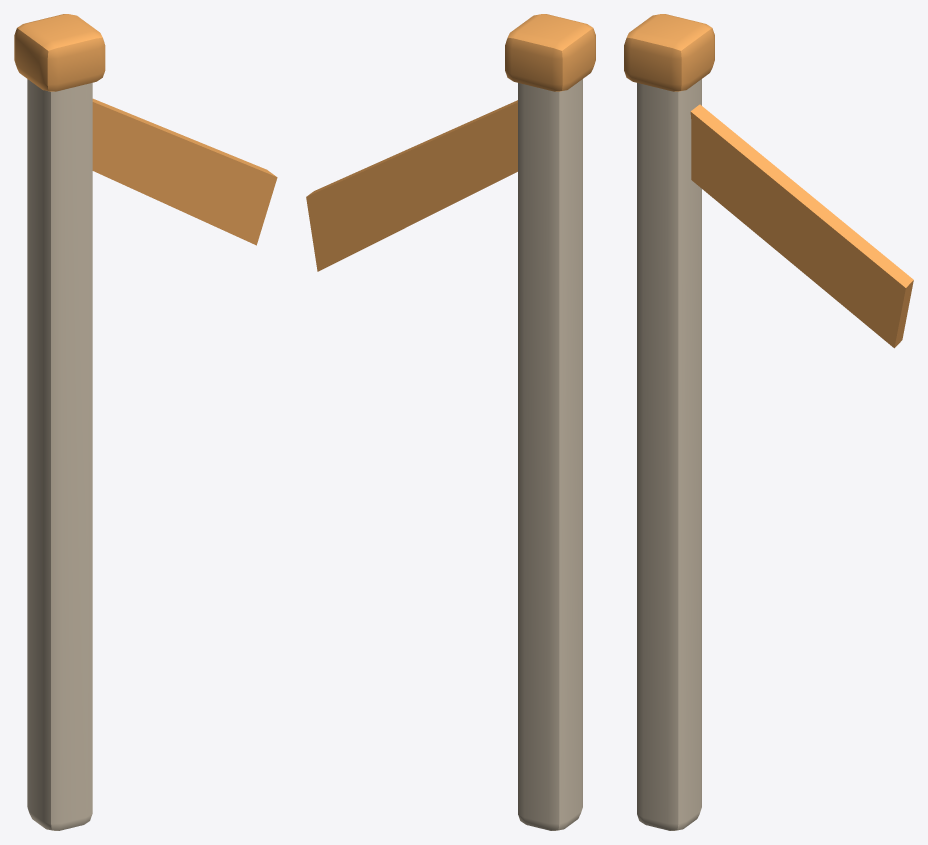
The model's file is SurveyStake.fbx.
3 renders of one model, left to right at view 1: azimuth 30°, elevation 25°; view 2: azimuth 150°, elevation 25°; view 3: azimuth 330°, elevation 25°, orthographic.
Parts seen in each view (by area): view 1: SurveyStake; view 2: SurveyStake; view 3: SurveyStake.
Boxes of the visible parts, left/top/right/bottom form: SurveyStake: left=14, top=14, right=277, bottom=830; SurveyStake: left=306, top=14, right=595, bottom=830; SurveyStake: left=624, top=14, right=913, bottom=830.
Bounding box in the file's own units: 0.3208 × 0.94 × 0.0899.
